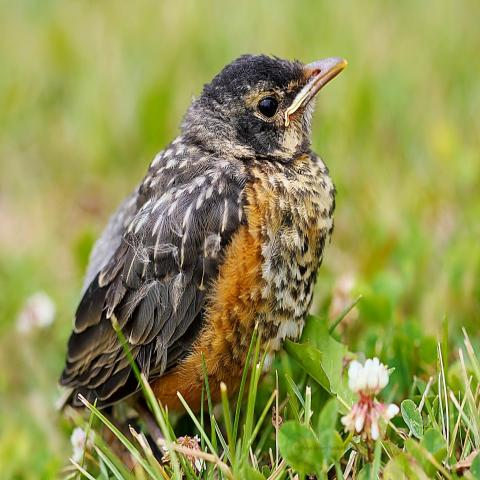bird: (57, 50, 349, 418)
